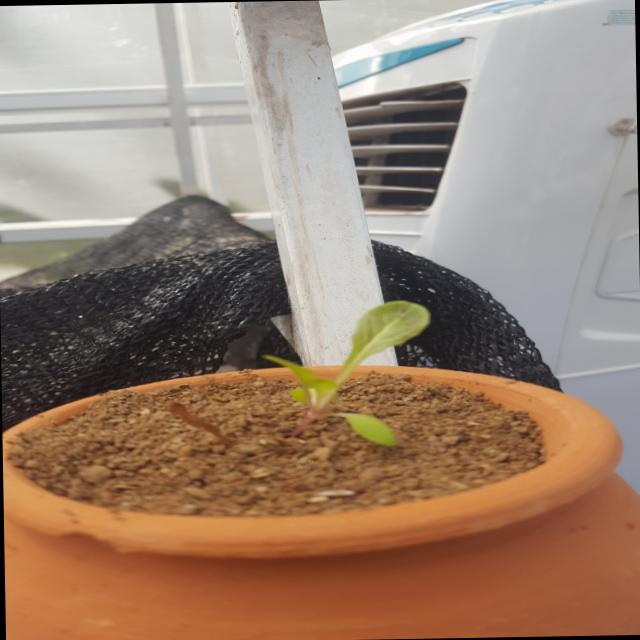Lettuce-Not-Ready-to-Harvest: (266, 298, 440, 453)
